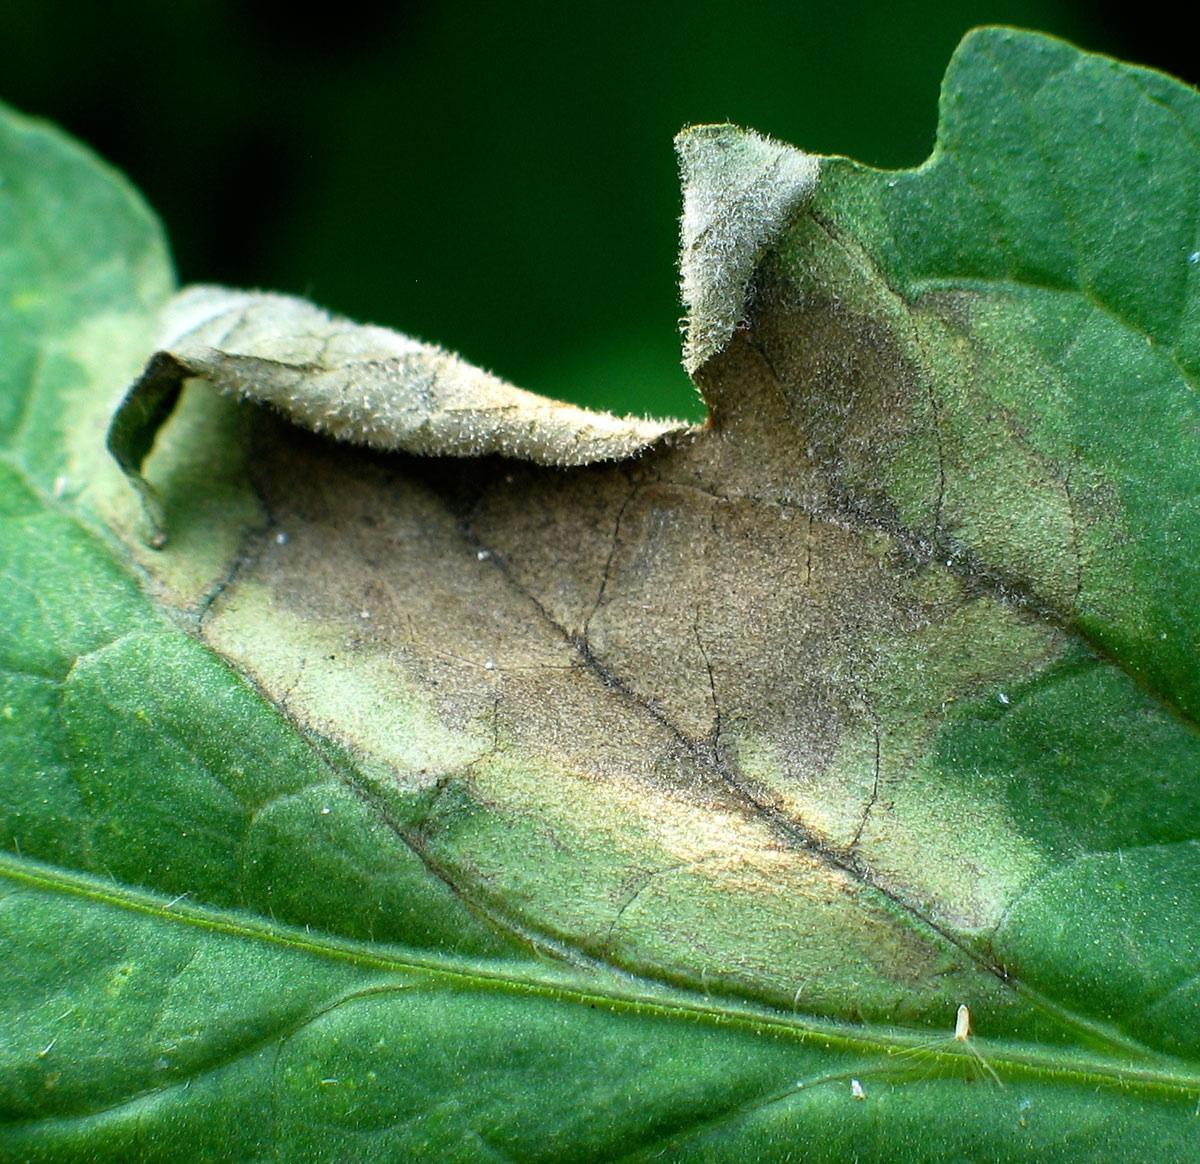Potato leaf: (4, 10, 1200, 1126)
